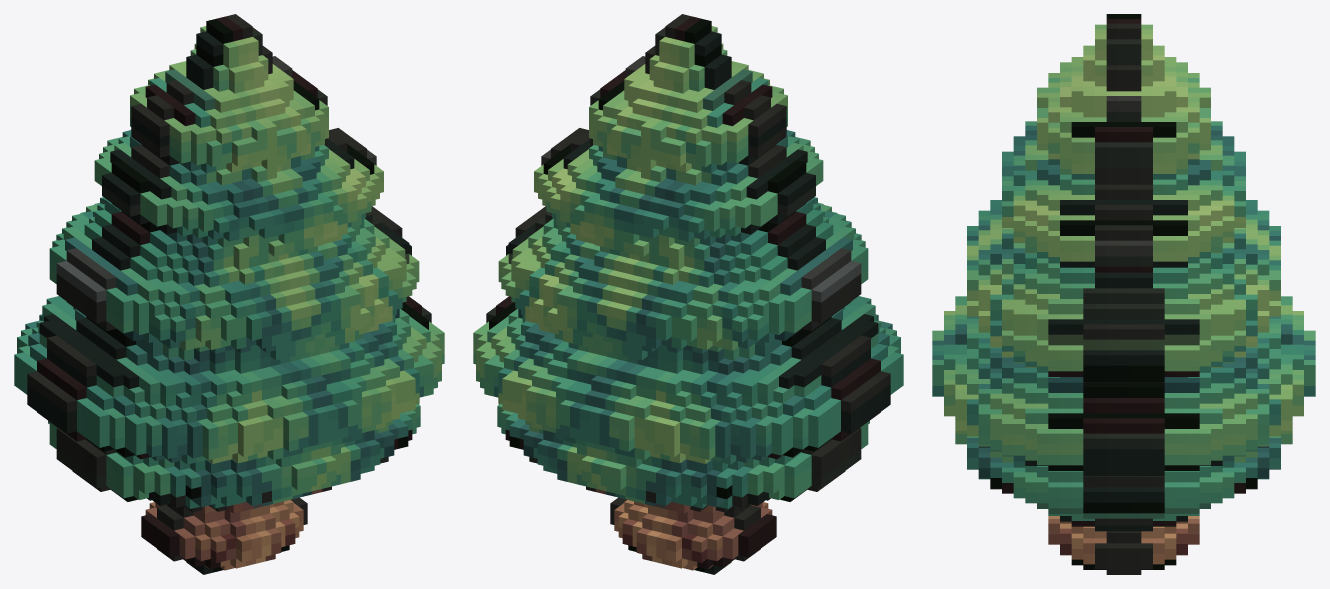
Rendered from pixel_tree.glb.
3 renders of one model, left to right at view 1: azimuth 30°, elevation 25°; view 2: azimuth 150°, elevation 25°; view 3: azimuth 270°, elevation 25°, orthographic. The views are drawn at different scales.
Parts seen in each view (by area): view 1: VoxelObject; view 2: VoxelObject; view 3: VoxelObject.
Boxes of the visible parts, x1=… form: VoxelObject: x1=14, y1=14, x2=444, y2=574; VoxelObject: x1=473, y1=14, x2=903, y2=574; VoxelObject: x1=932, y1=14, x2=1315, y2=574.
Bounding box in the file's own units: 2.56 × 3.6 × 2.28.
